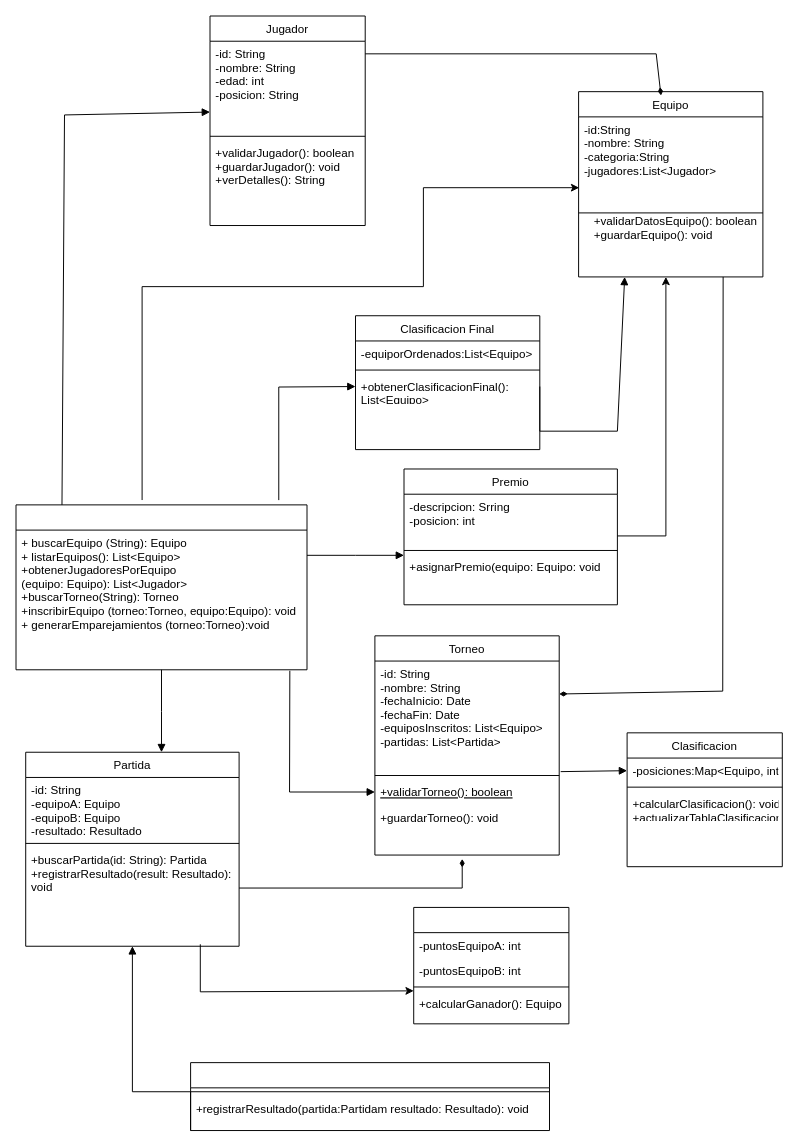
This 809x1147 diagram has some shape labels left out. The shapes that lost their labels are listed below. From the top down, each one's box as (x1, y1, x2, y2) in pixels, then its label:
(15, 504, 307, 670): Administrador
(413, 906, 569, 1024): Resultado
(190, 1062, 550, 1131): Arbitro
